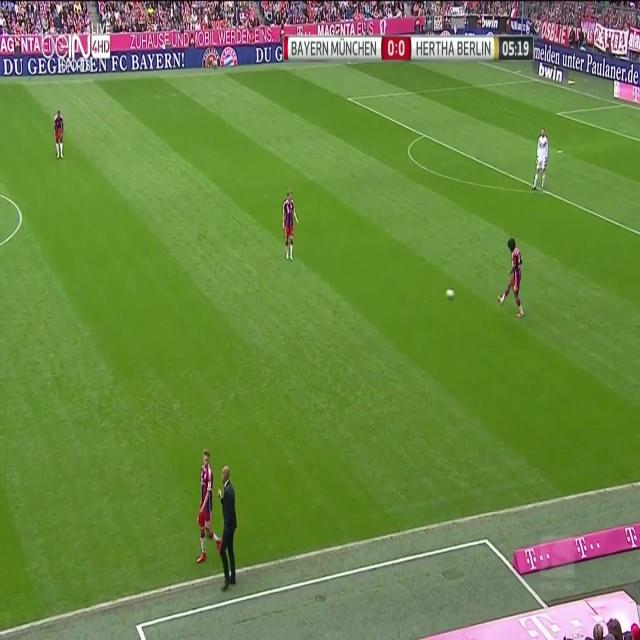Ball: (444, 286, 456, 303)
Player: (197, 445, 224, 566), (498, 236, 526, 323), (280, 187, 300, 266), (52, 111, 66, 165)
Referee: (532, 126, 550, 195)
